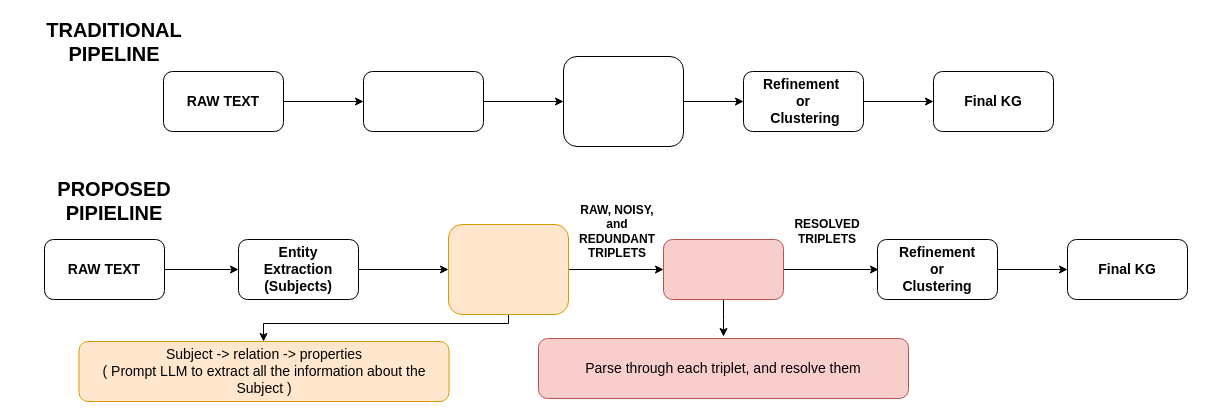
The diagram is 1205 pixels wide and 419 high, and some of its shapes have lost their labels. Each missing label, with the centre of its shape:
Entity Extraction: point (423, 101)
OBJECT RESOLUTION: point (723, 269)
Relation Extraction between Entities: point (623, 101)
Relation/Property Extraction: point (508, 269)
